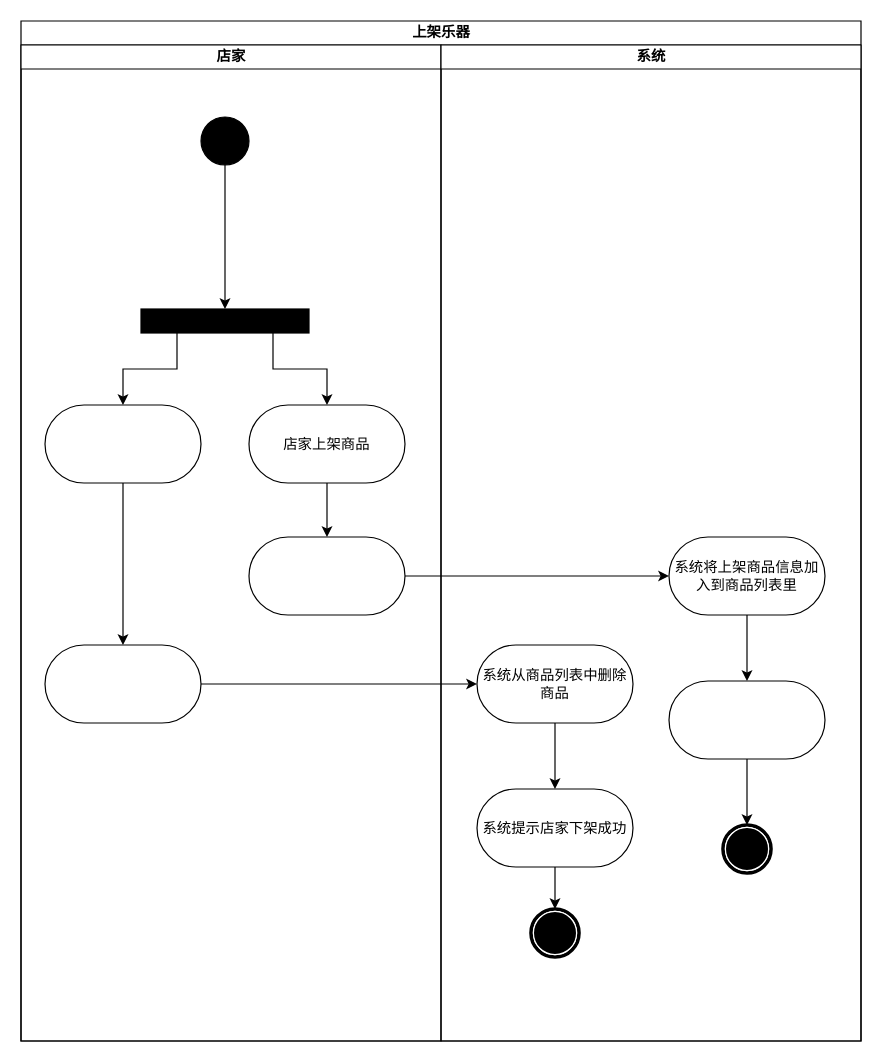
Some shapes in this 882 by 1062 pixel diagram are drawn without their labels. The shapes that lost their labels are listed below. From the top down, each one's centre as x and y in pixels, then its label:
At [122,443]: "店家下架商品".
At [326,575]: "店家填写上架商品信息".
At [122,683]: "店家选择下架的商品".
At [746,719]: "系统提示店家上架成功".
